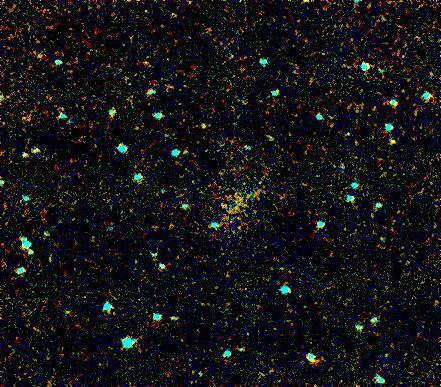star: (209, 190, 239, 220)
